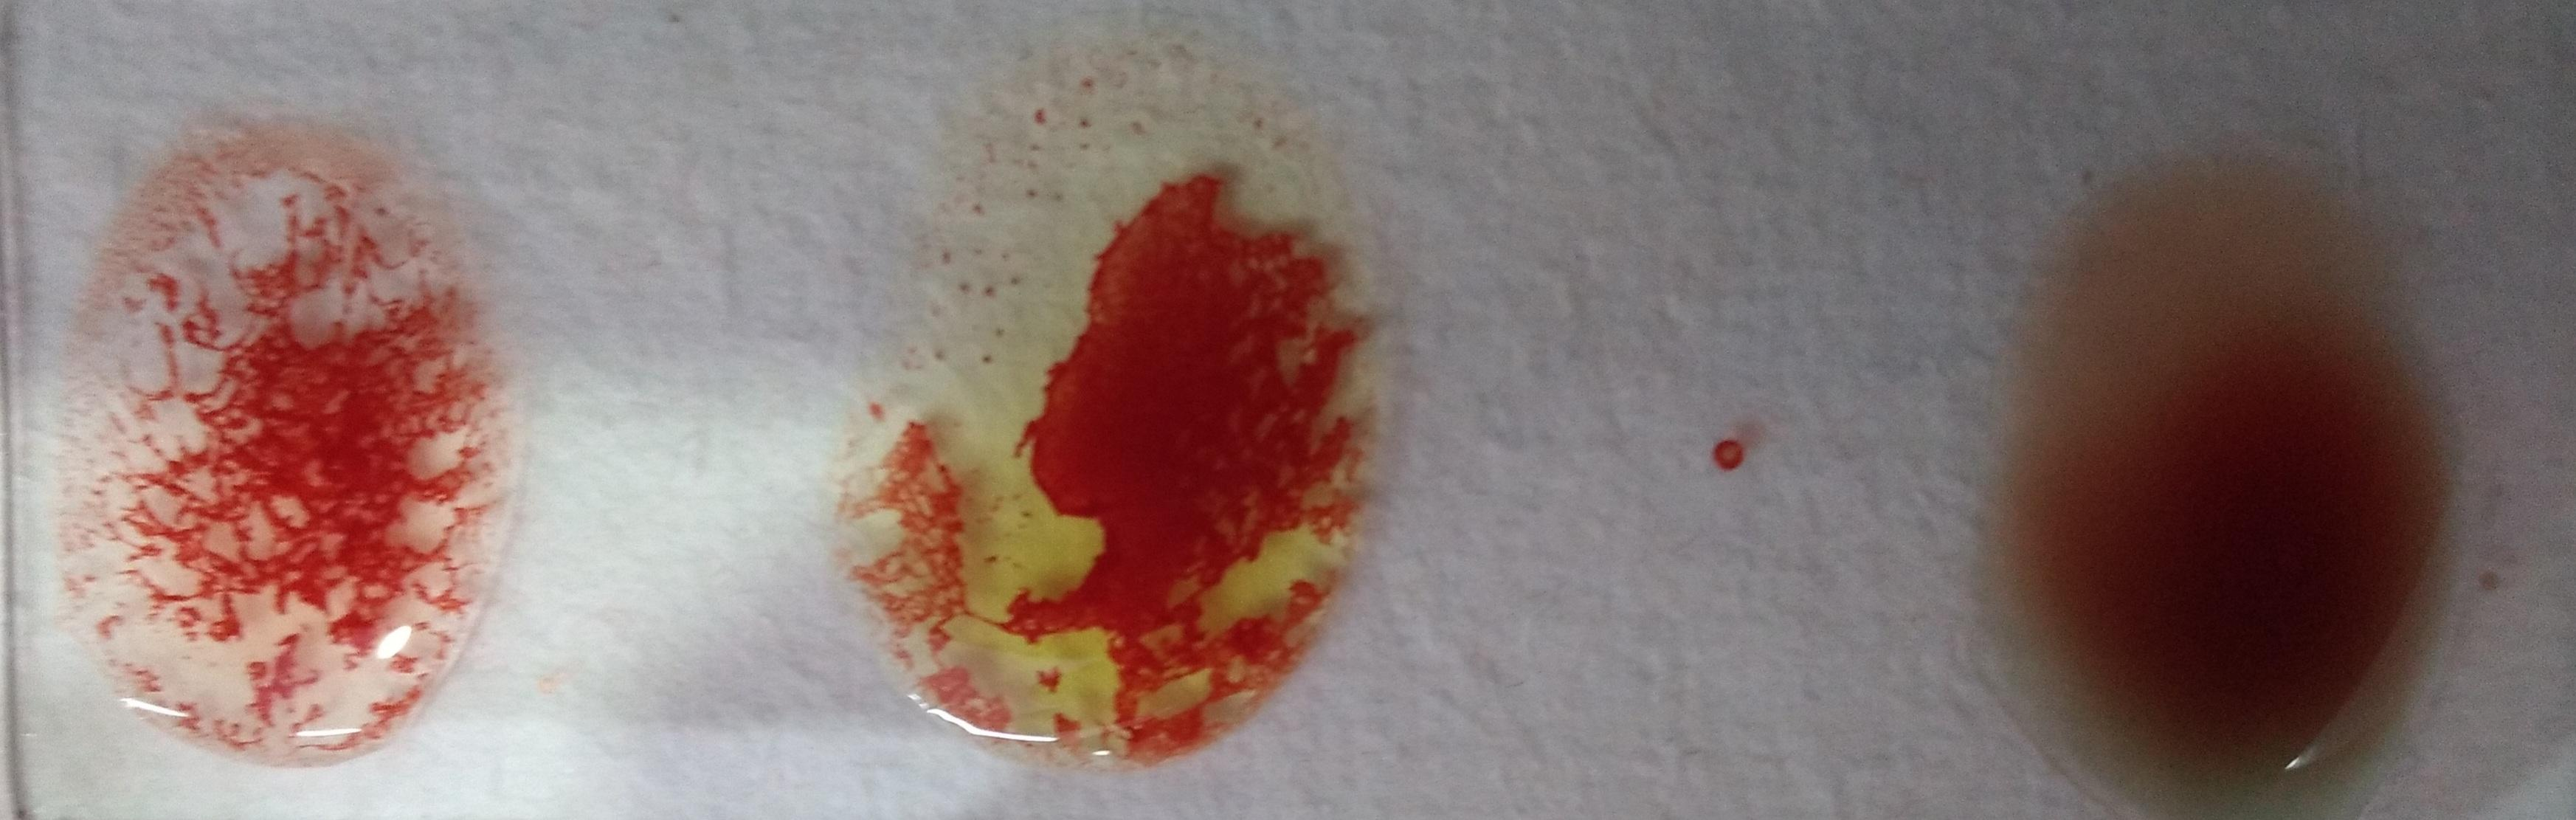B: (866, 5, 1355, 777)
D: (30, 100, 514, 767)
